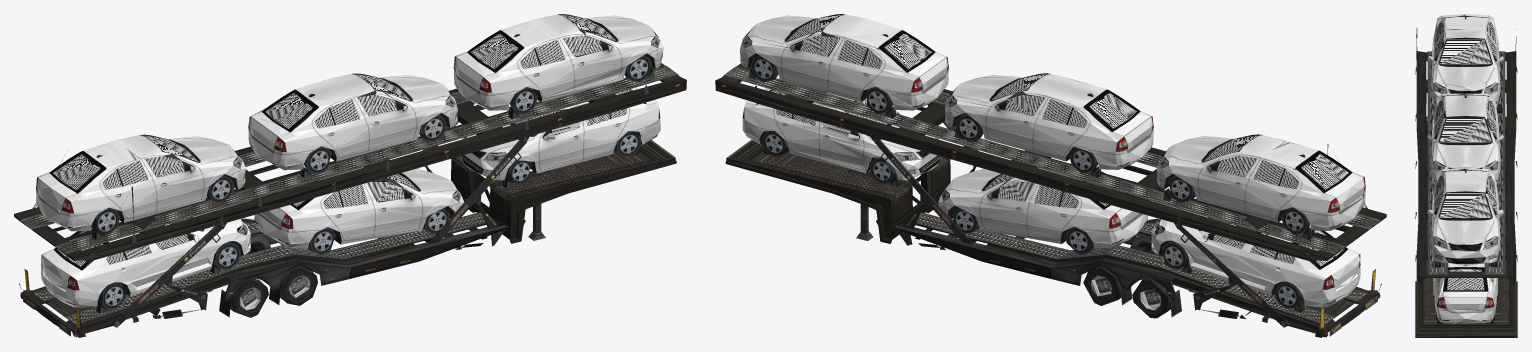
File: trailer-cars.glb
3 views of the same model, side by side, from view 1: azimuth 30°, elevation 25°; view 2: azimuth 150°, elevation 25°; view 3: azimuth 270°, elevation 25° (orthographic). The views are drawn at different scales.
Visible parts, largest first — view 1: Object_4, Object_2, Object_7, Object_8, Object_3; view 2: Object_4, Object_2, Object_7, Object_8, Object_3; view 3: Object_4, Object_2.
Boxes of the visible parts, box(x1,y1,x2,y2) form: Object_4: box(36, 14, 663, 304); Object_2: box(14, 63, 686, 337); Object_7: box(41, 207, 250, 307); Object_8: box(91, 55, 651, 309); Object_3: box(226, 235, 317, 317); Object_4: box(740, 14, 1365, 303); Object_2: box(715, 63, 1386, 337); Object_7: box(1151, 207, 1360, 307); Object_8: box(750, 55, 1309, 308); Object_3: box(1083, 235, 1175, 318); Object_4: box(1426, 14, 1504, 323); Object_2: box(1415, 28, 1517, 337).
Size of the model in its own units: 15.85 by 4.78 by 2.76.
5 materials, 4 textured.
